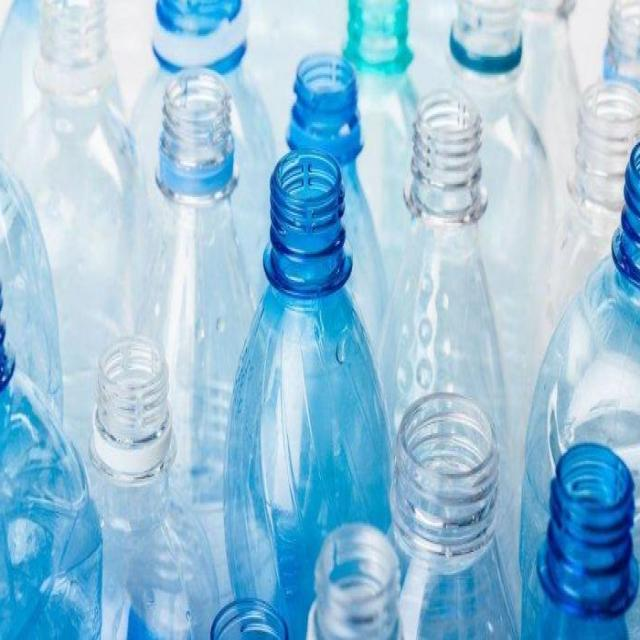plastic: (217, 0, 416, 640), (0, 313, 229, 640), (128, 0, 271, 509), (512, 81, 640, 640), (378, 0, 550, 405), (0, 0, 142, 345), (381, 373, 532, 640)
